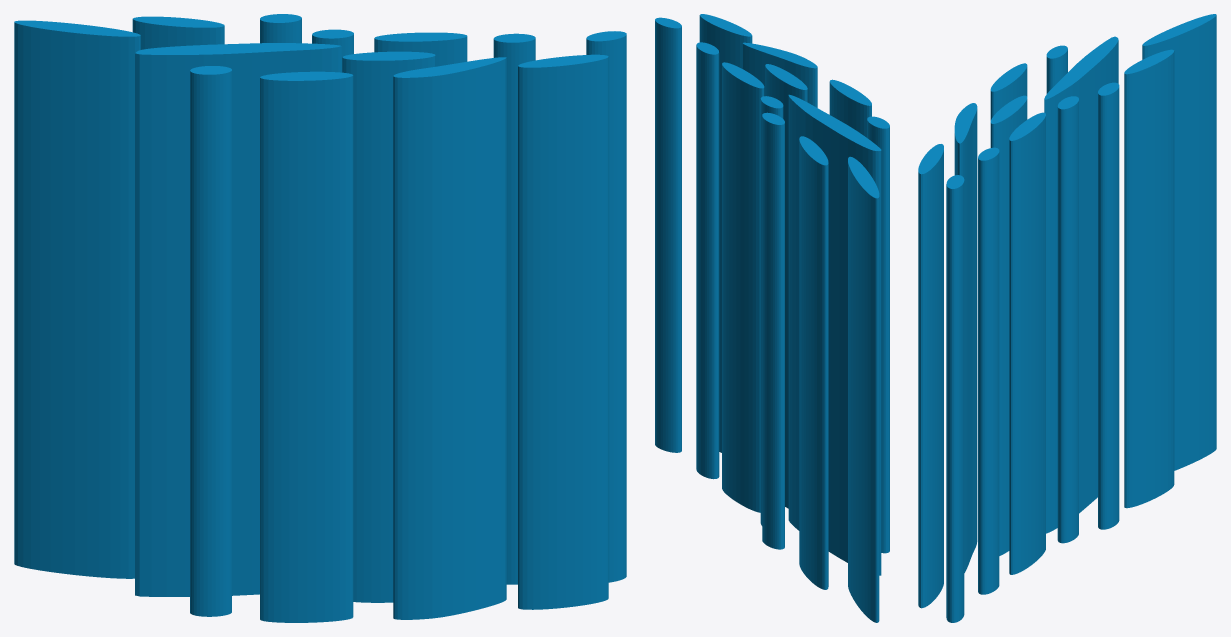
Rendered from SER.dae.
The picture shows the model from 3 angles, left to right: view 1: azimuth 30°, elevation 25°; view 2: azimuth 150°, elevation 25°; view 3: azimuth 270°, elevation 25°; orthographic projection. The views are drawn at different scales.
Visible parts, largest first — view 1: Cylinder_004; view 2: Cylinder_004; view 3: Cylinder_004.
Part boxes in pixels (x1=…): Cylinder_004: x1=14, y1=14, x2=626, y2=622; Cylinder_004: x1=655, y1=14, x2=889, y2=622; Cylinder_004: x1=918, y1=14, x2=1216, y2=622.
Bounding box in the file's own units: 0.9519 × 0.686 × 1.11.
